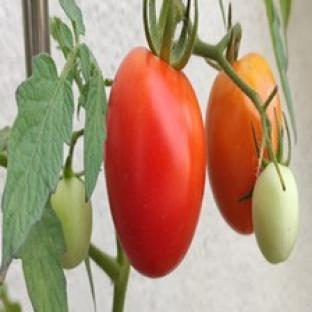Tomato: (105, 48, 206, 277), (205, 72, 261, 233), (253, 163, 299, 263), (51, 177, 91, 268)
